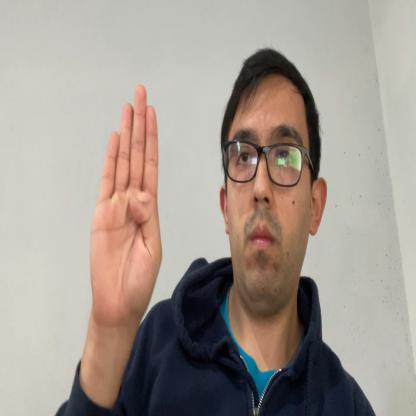B: (89, 82, 163, 321)
